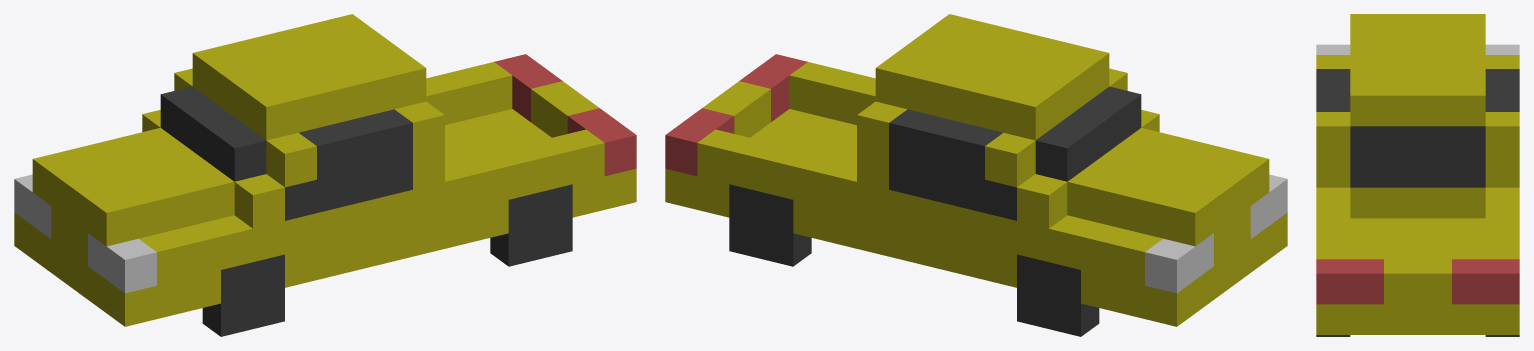
File: car-v5-yellow.gltf
3 renders of one model, left to right at view 1: azimuth 30°, elevation 25°; view 2: azimuth 150°, elevation 25°; view 3: azimuth 270°, elevation 25°, orthographic. The views are drawn at different scales.
Parts seen in each view (by area): view 1: model, wheels; view 2: model, wheels; view 3: model.
Boxes of the visible parts, x1=… form: model: x1=14, y1=14, x2=636, y2=326; wheels: x1=202, y1=184, x2=572, y2=336; model: x1=665, y1=14, x2=1287, y2=326; wheels: x1=729, y1=184, x2=1099, y2=336; model: x1=1316, y1=14, x2=1519, y2=334.
Size of the model in its own units: 1.6 by 0.6 by 0.6.
Materials: 2 (2 with a texture image).
